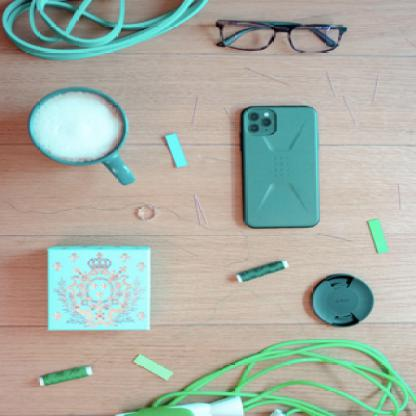cell-phone: (234, 104, 332, 238)
